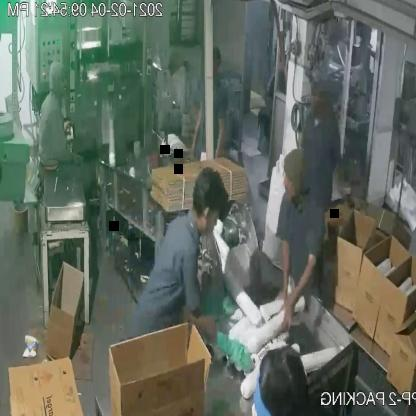glove: (189, 272, 236, 324), (212, 327, 254, 376)
no_glove: (281, 231, 321, 338), (272, 226, 298, 306), (186, 94, 208, 162), (210, 110, 228, 164)
